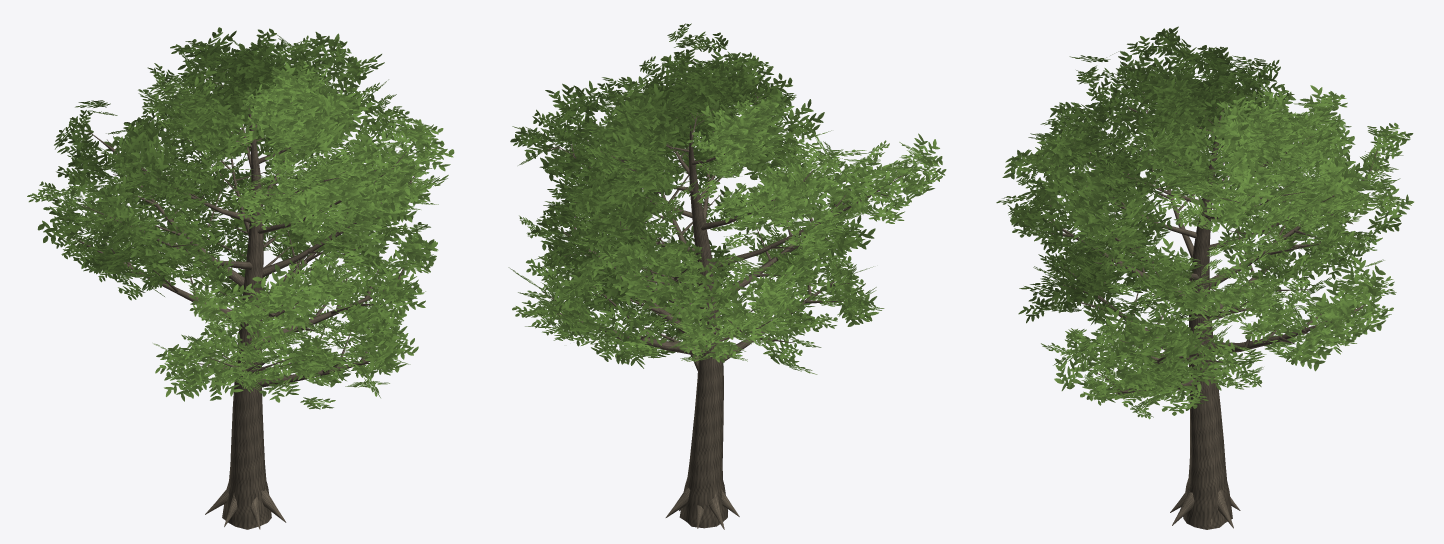
Rendered from BroadleafSpreading.glb.
3 views of the same model, side by side, from view 1: azimuth 30°, elevation 25°; view 2: azimuth 150°, elevation 25°; view 3: azimuth 270°, elevation 25° (orthographic). The views are drawn at different scales.
Parts seen in each view (by area): view 1: BroadleafSpreading; view 2: BroadleafSpreading; view 3: BroadleafSpreading.
Part boxes in pixels (bbox=[...]): BroadleafSpreading: bbox=[27, 27, 454, 529]; BroadleafSpreading: bbox=[508, 23, 946, 529]; BroadleafSpreading: bbox=[996, 26, 1413, 529].
Bounding box in the file's own units: 11.85 × 12.72 × 11.06.
Materials: 2 (2 with a texture image).
